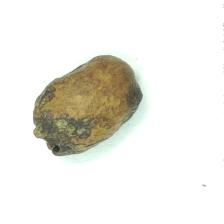NG: (32, 118, 100, 155), (33, 77, 58, 121), (122, 79, 144, 126)
